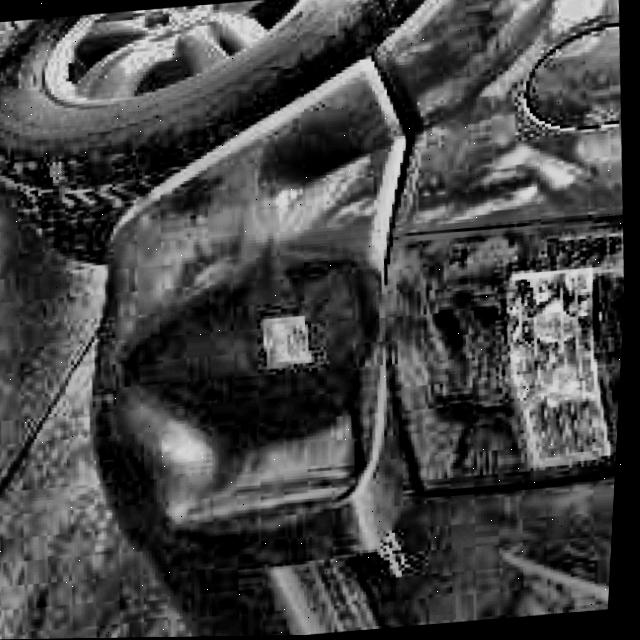bumper_dent: (105, 242, 395, 539)
